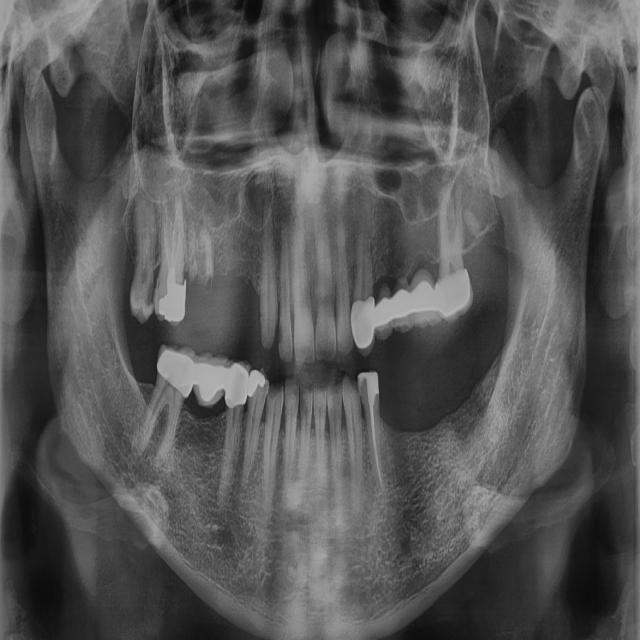Caries: (148, 266, 154, 308), (278, 320, 284, 347), (156, 269, 161, 292)
Crown: (192, 352, 231, 407), (156, 344, 196, 397), (437, 265, 471, 325), (410, 268, 441, 327), (352, 293, 375, 353), (225, 357, 251, 406), (391, 274, 413, 331), (375, 286, 396, 337)
Filling: (159, 266, 185, 323), (358, 372, 378, 406), (248, 369, 267, 395)
Missing teeth: (379, 343, 469, 431), (217, 265, 259, 338)
Root Canal Treatment: (371, 393, 383, 492), (171, 205, 182, 260), (170, 206, 176, 263), (165, 214, 169, 259)
Root Piece: (198, 220, 215, 288), (187, 214, 200, 287), (464, 208, 485, 239)
